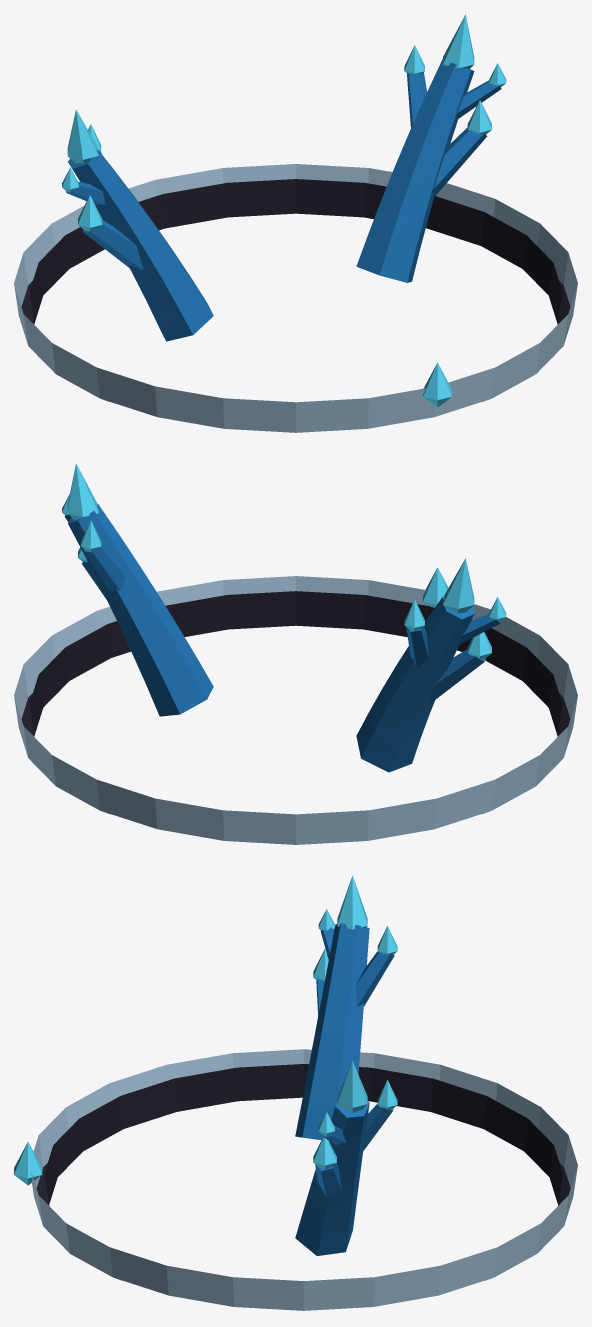
File: crystal_antlers.obj
The picture shows the model from 3 angles, top to bottom: view 1: azimuth 30°, elevation 25°; view 2: azimuth 150°, elevation 25°; view 3: azimuth 270°, elevation 25°; orthographic projection. The views are drawn at different scales.
Visible parts, largest first — view 1: crystal_antlers; view 2: crystal_antlers; view 3: crystal_antlers.
Part boxes in pixels (x1,y1,x2,y2): crystal_antlers: (14,14,577,432); crystal_antlers: (14,463,577,844); crystal_antlers: (14,875,577,1310).
Bounding box in the file's own units: 9.4 × 4.49 × 9.66.
